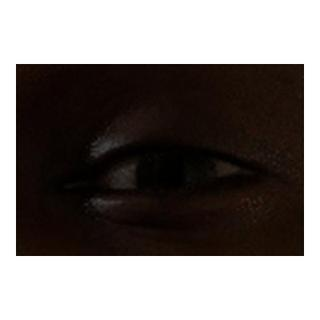pupil: (159, 157, 195, 193)
